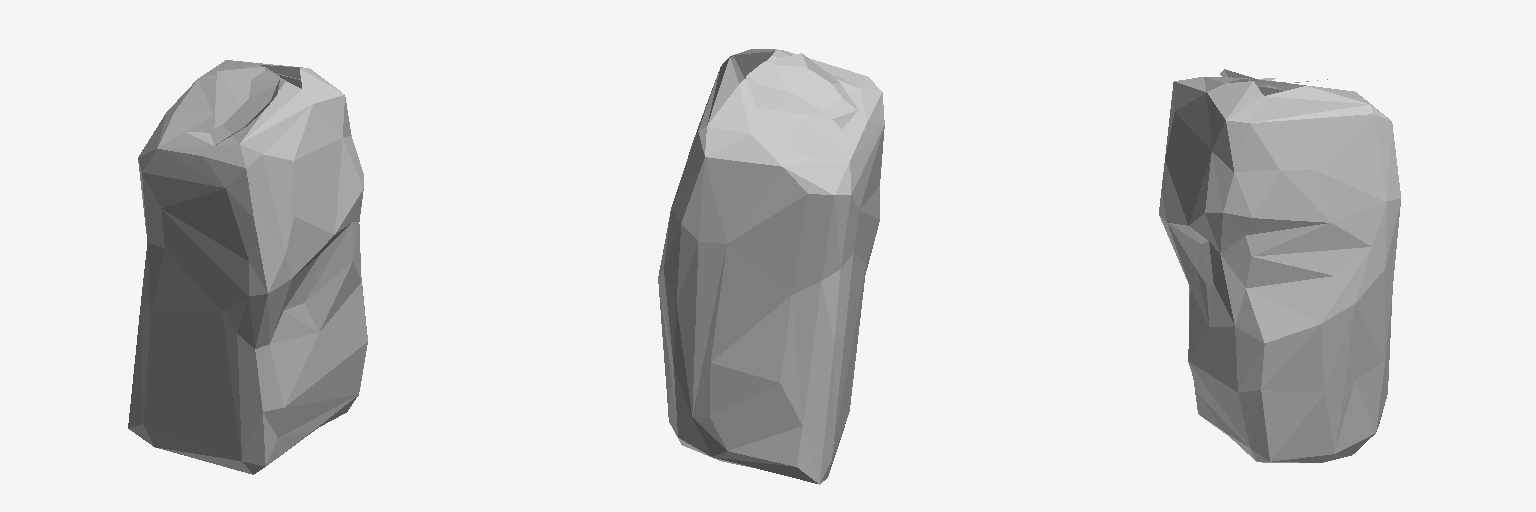
The model's file is RightHand.obj.
3 renders of one model, left to right at view 1: azimuth 30°, elevation 25°; view 2: azimuth 150°, elevation 25°; view 3: azimuth 270°, elevation 25°, orthographic.
Visible parts, largest first — view 1: Stone:Mesh; view 2: Stone:Mesh; view 3: Stone:Mesh.
Boxes of the visible parts, x1=… form: Stone:Mesh: x1=128, y1=60, x2=367, y2=474; Stone:Mesh: x1=658, y1=49, x2=884, y2=484; Stone:Mesh: x1=1159, y1=69, x2=1400, y2=462.
Bounding box in the file's own units: 2.43 × 4.47 × 2.59.